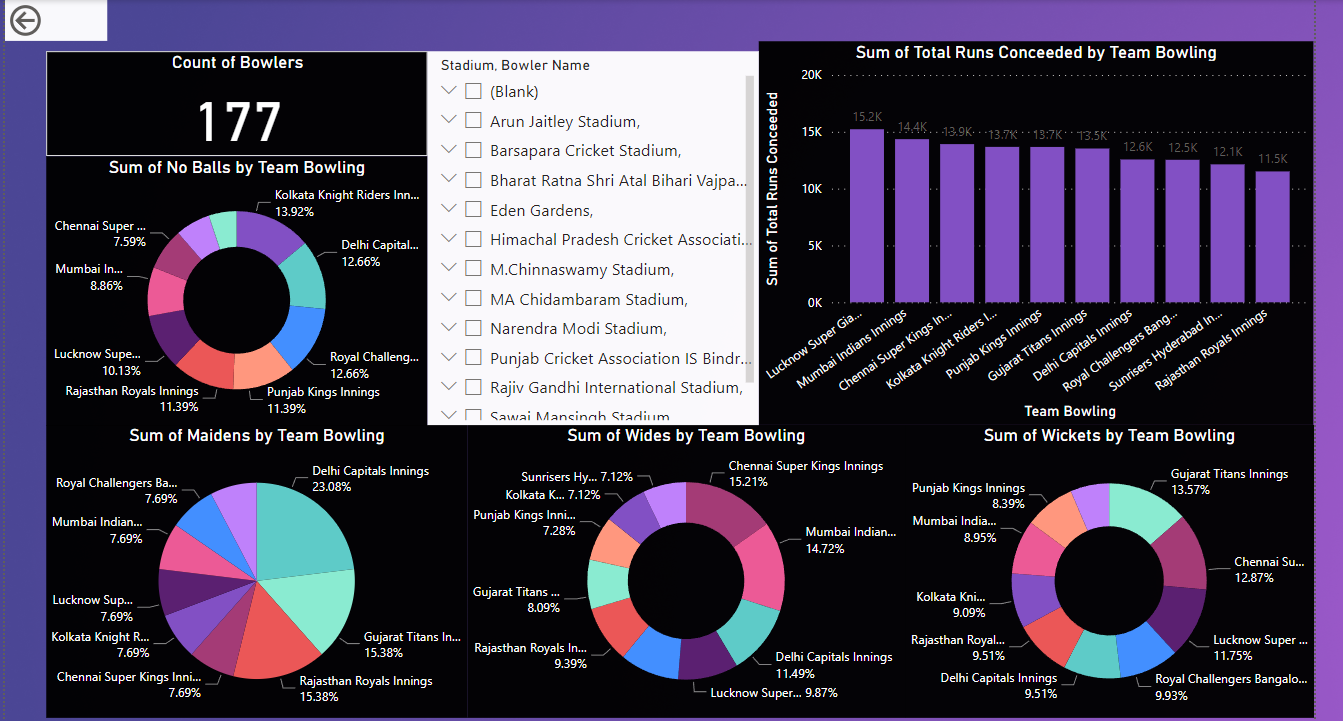

What the dashboard file says about the page in this screenshot:
{"tool":"powerbi","page":{"name":"Bowling_Ummary","canvas":[1280,720],"ordinal":1},"visuals":[{"type":"actionButton","box":[0,0,100,40],"z":0},{"type":"card","title":"Count of Bowlers","fields":{"Values":["Count(bowling_summary_2023.Bowler Name)"]},"box":[114.6,39.8,202.6,101.3],"z":1000},{"type":"donutChart","fields":{"Category":["bowling_summary_2023.Team Bowling"],"Y":["Sum(bowling_summary_2023.Wickets)"]},"box":[898.5,437.6,372.8,264],"z":2000},{"type":"donutChart","fields":{"Category":["bowling_summary_2023.Team Bowling"],"Y":["Sum(bowling_summary_2023.Wides)"]},"box":[452.3,437.6,414.4,264],"z":3000},{"type":"pieChart","fields":{"Category":["bowling_summary_2023.Team Bowling"],"Y":["Sum(bowling_summary_2023.Maidens)"]},"box":[40.3,437.6,372.8,264],"z":4000},{"type":"columnChart","fields":{"Category":["bowling_summary_2023.Team Bowling"],"Y":["Sum(bowling_summary_2023.Total Runs Conceeded)"]},"box":[737.1,40.3,542.8,375.3],"z":5000},{"type":"donutChart","fields":{"Y":["Sum(bowling_summary_2023.No Balls)"],"Category":["bowling_summary_2023.Team Bowling"]},"box":[40.3,152.8,372.8,262.8],"z":6000},{"type":"slicer","fields":{"Values":["bowling_summary_2023.Stadium","bowling_summary_2023.Bowler Name"]},"box":[452.3,50.1,245.7,310.5],"z":7000}]}

Visuals, with their boxes on the page's 1280x720 design canvas (x1, y1, x2, y2). These are canvas units, not pixel positions in the 1343x721 screenshot, which may show the page scaled, cropped or inside an application window:
actionButton: Rect(0, 0, 100, 40)
"Count of Bowlers" card: Rect(115, 40, 317, 141)
donutChart - bowling_summary_2023.Team Bowling x Sum(bowling_summary_2023.Wickets): Rect(898, 438, 1271, 702)
donutChart - bowling_summary_2023.Team Bowling x Sum(bowling_summary_2023.Wides): Rect(452, 438, 867, 702)
pieChart - bowling_summary_2023.Team Bowling x Sum(bowling_summary_2023.Maidens): Rect(40, 438, 413, 702)
columnChart - bowling_summary_2023.Team Bowling x Sum(bowling_summary_2023.Total Runs Conceeded): Rect(737, 40, 1280, 416)
donutChart - Sum(bowling_summary_2023.No Balls) x bowling_summary_2023.Team Bowling: Rect(40, 153, 413, 416)
slicer - bowling_summary_2023.Stadium x bowling_summary_2023.Bowler Name: Rect(452, 50, 698, 361)
